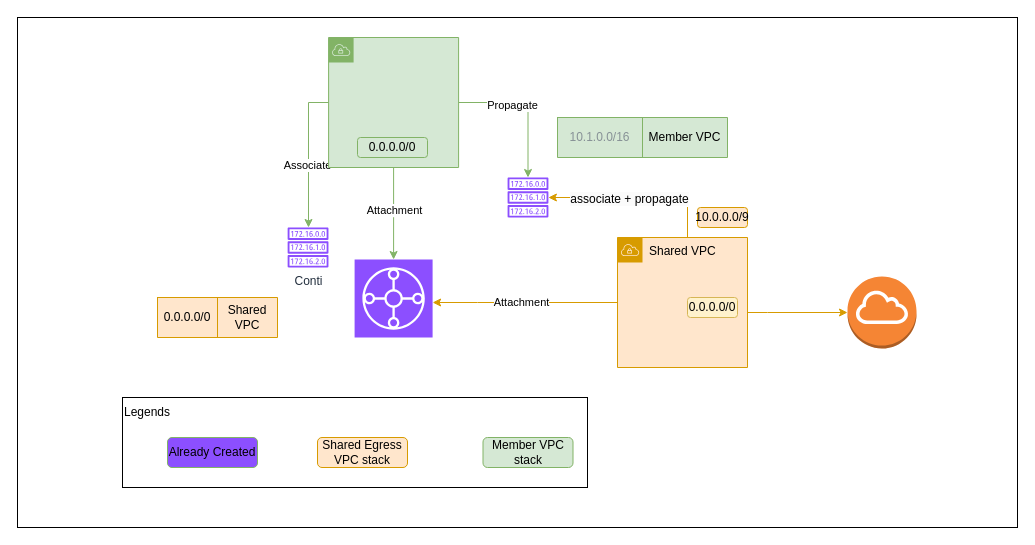
Some shapes in this 1035 by 545 pixel diagram are drawn without their labels. Each missing label, with the box of its shape:
Main: (507, 177, 548, 217)
Member VPC 10.1.0.0/16: (328, 36, 459, 168)
